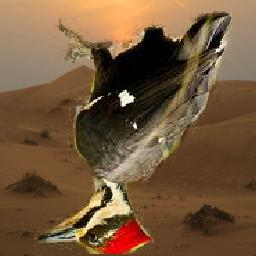Woodpecker: (34, 12, 232, 255)
